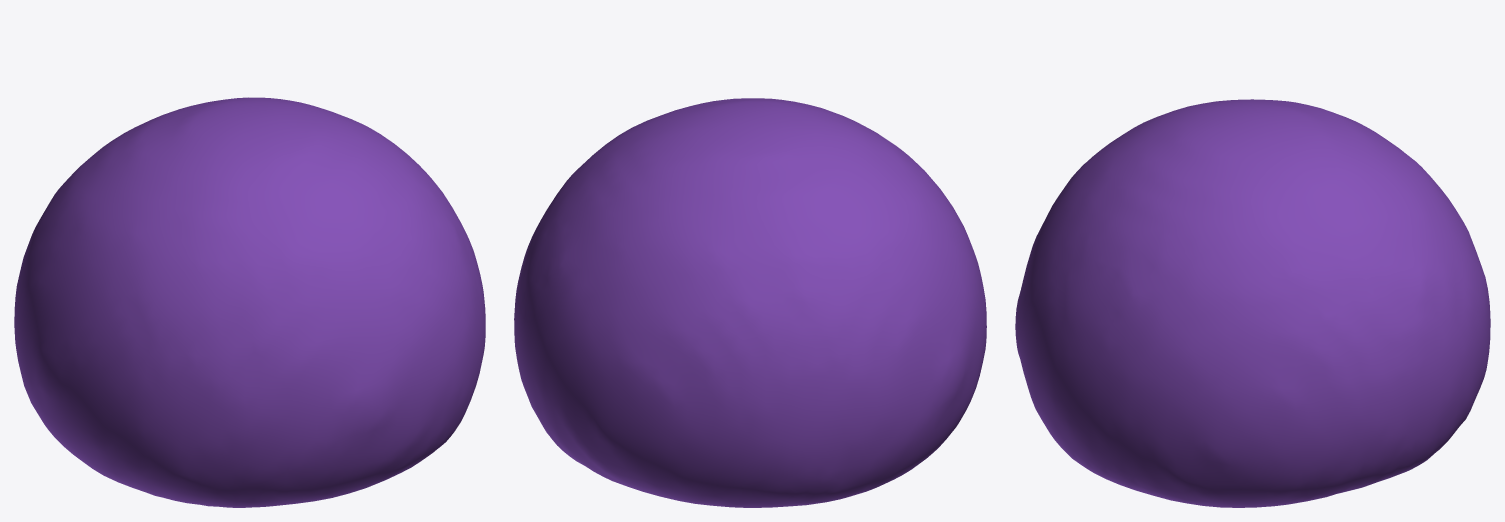
Rendered from slime_0016.dae.
3 renders of one model, left to right at view 1: azimuth 30°, elevation 25°; view 2: azimuth 150°, elevation 25°; view 3: azimuth 270°, elevation 25°, orthographic.
Visible parts, largest first — view 1: Slime; view 2: Slime; view 3: Slime.
Part boxes in pixels (x1,y1,x2,y2): Slime: [14, 97, 485, 507]; Slime: [514, 98, 986, 507]; Slime: [1015, 99, 1490, 507].
Size of the model in its own units: 2.06 by 2.08 by 2.06.
